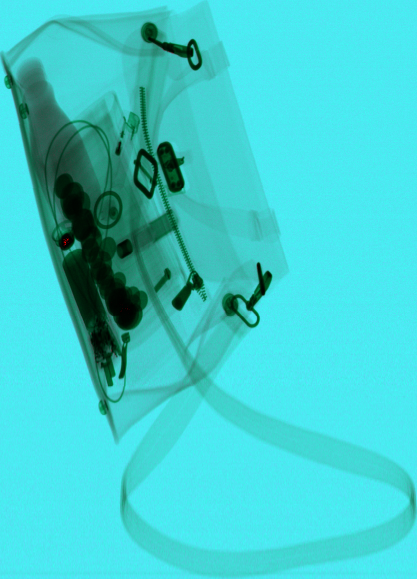Plastic Bottle: (15, 57, 101, 239)
